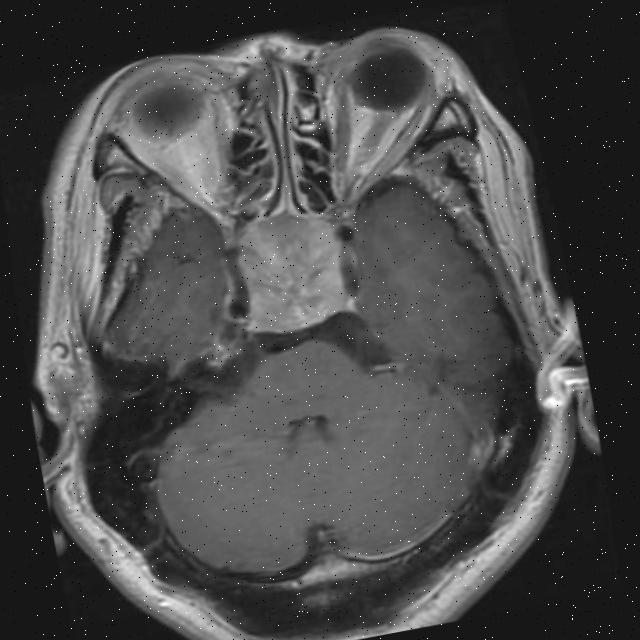Pituitary: (228, 203, 355, 340)
